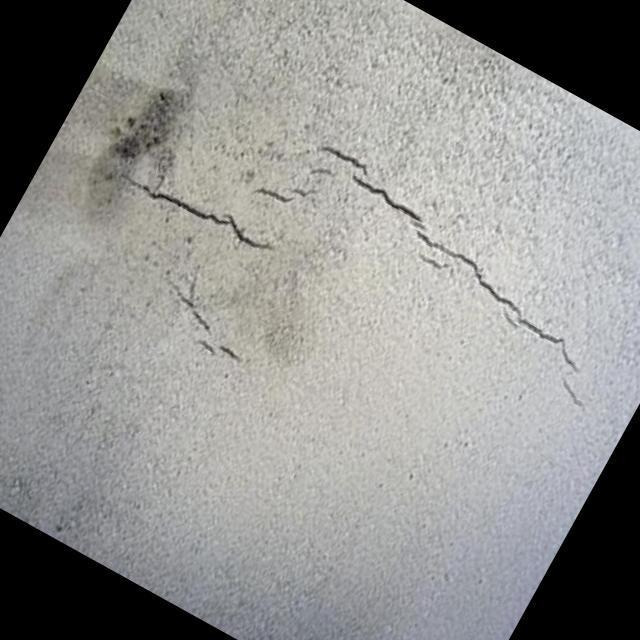defect: (250, 142, 585, 413), (116, 170, 274, 254), (172, 288, 245, 370)
